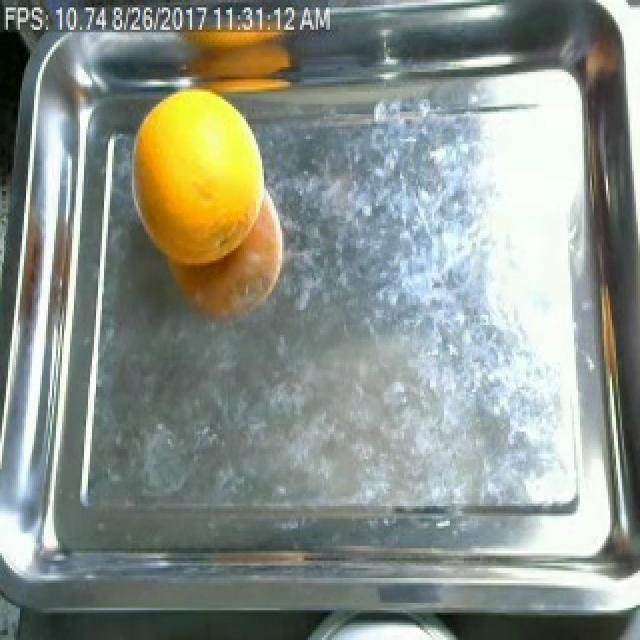Fruit: (122, 82, 282, 327), (166, 7, 298, 102)
